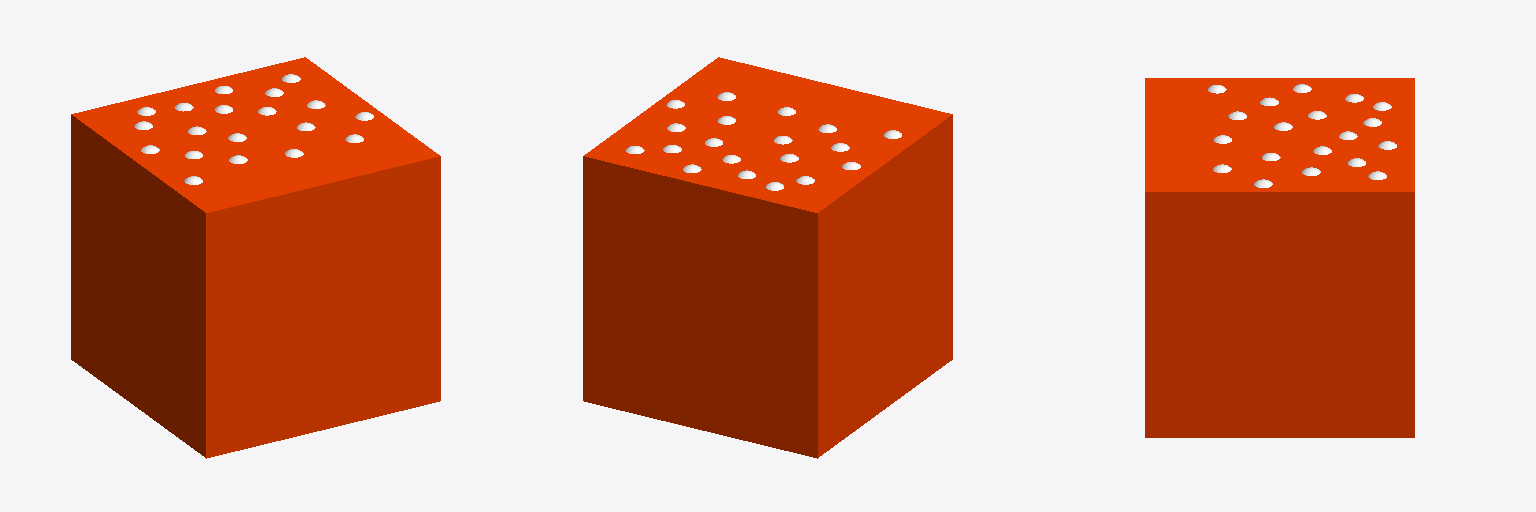
3 views of the same model, side by side, from view 1: azimuth 30°, elevation 25°; view 2: azimuth 150°, elevation 25°; view 3: azimuth 270°, elevation 25° (orthographic).
Visible parts, largest first — view 1: 球.017; view 2: 球.017; view 3: 球.017.
Part boxes in pixels (x1,y1,x2,y2): 球.017: (71, 57, 440, 458); 球.017: (583, 57, 952, 458); 球.017: (1145, 78, 1414, 437).
Size of the model in its own units: 130 by 132 by 130.
Materials: 1 (1 with a texture image).